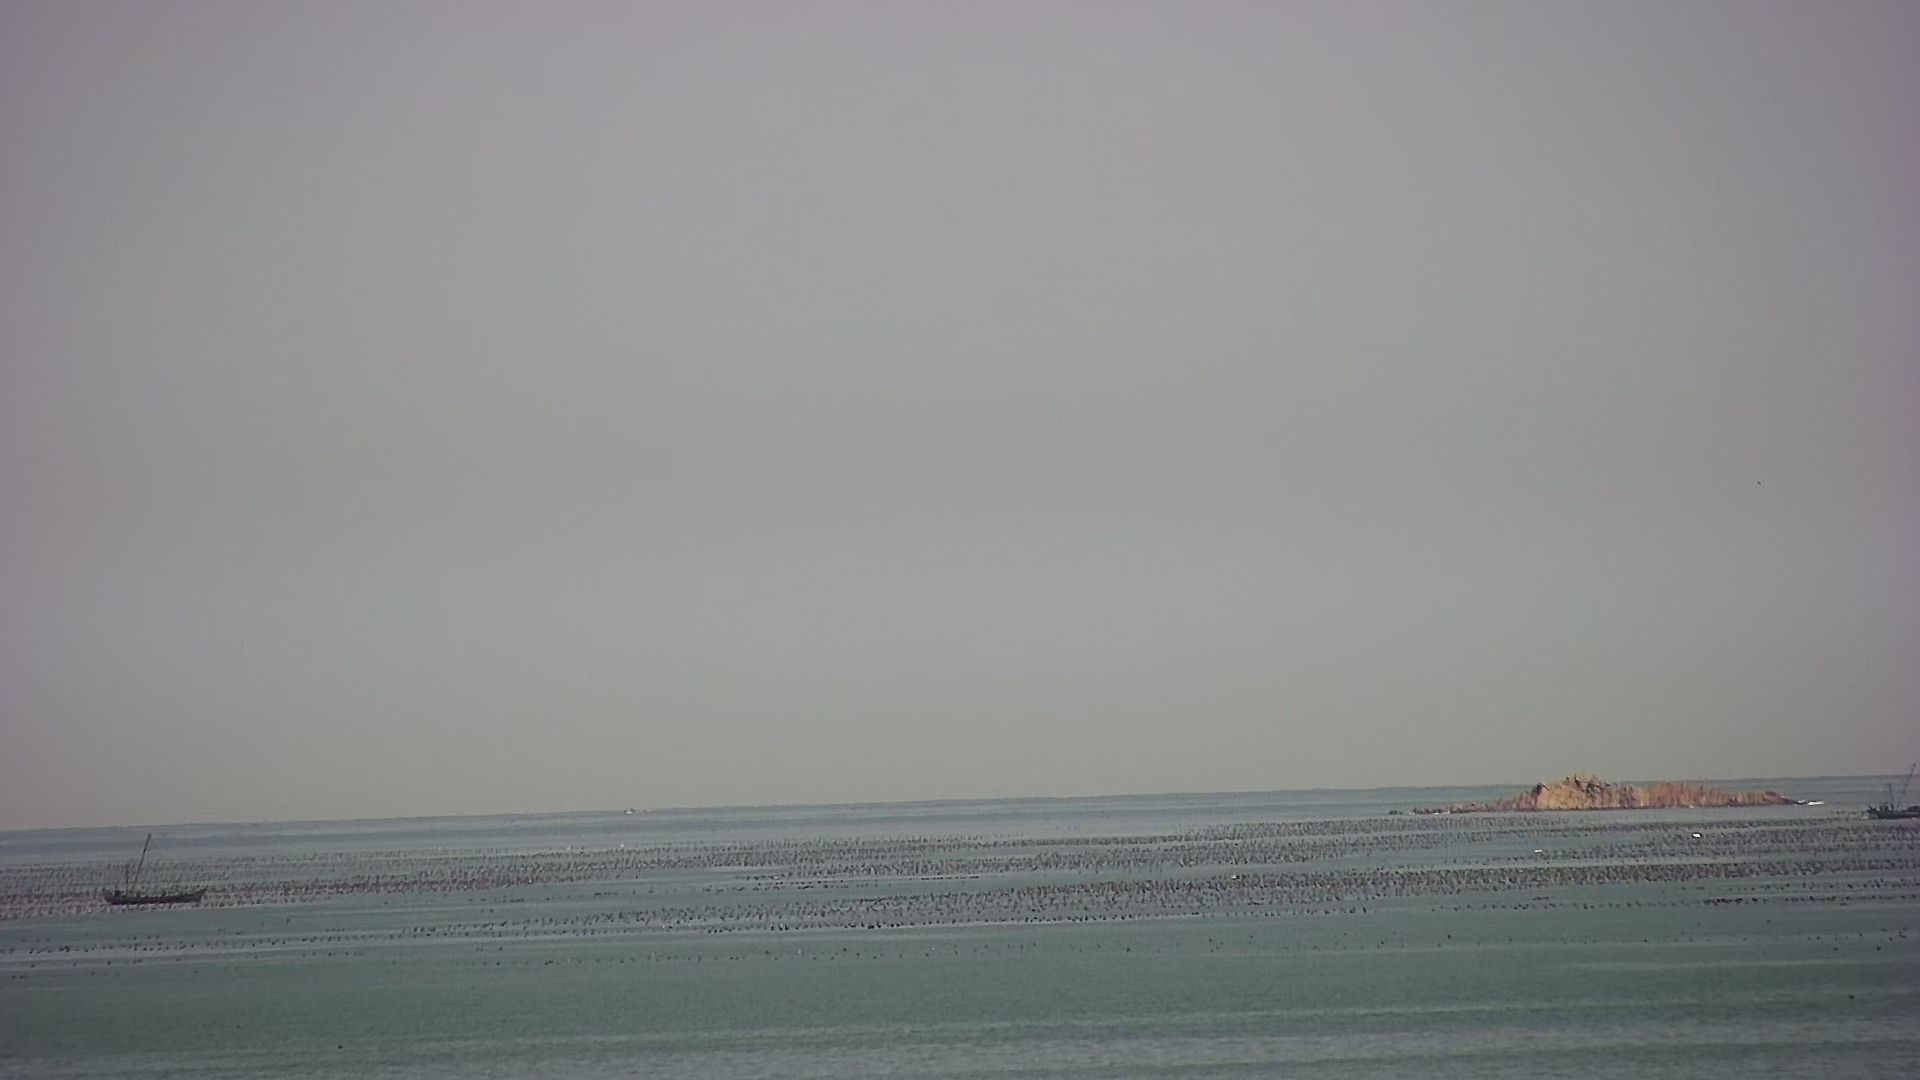boat: (96, 825, 208, 911)
rock: (1370, 774, 1815, 819)
